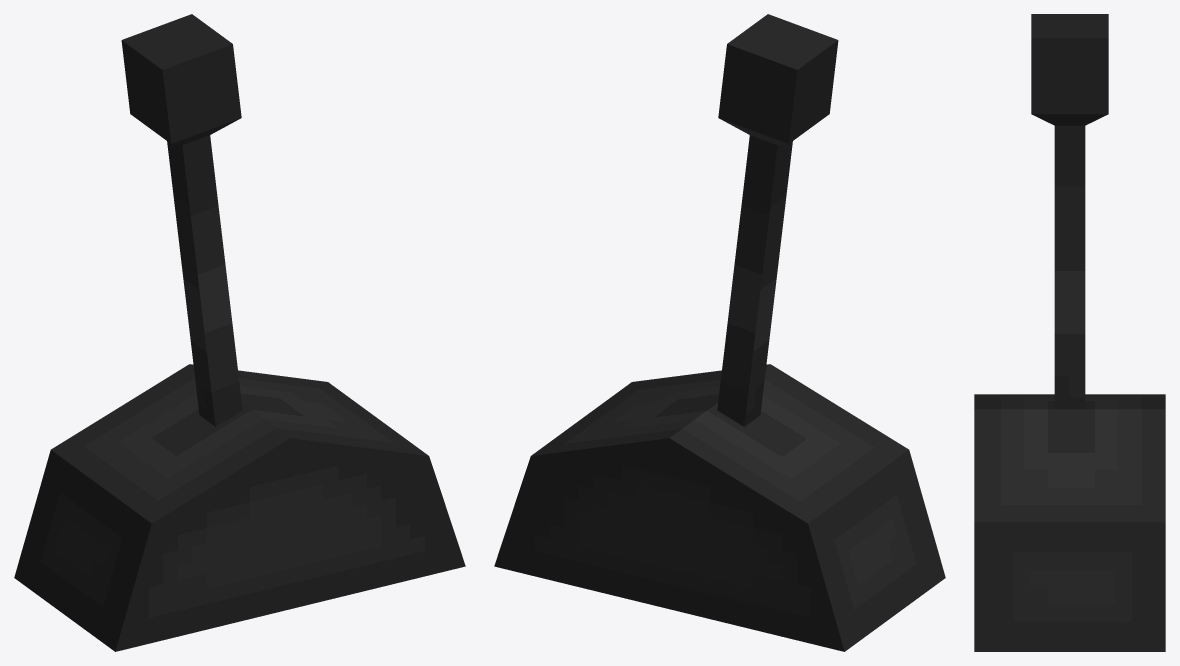
Rendered from lever0007.obj.
The picture shows the model from 3 angles, left to right: view 1: azimuth 30°, elevation 25°; view 2: azimuth 150°, elevation 25°; view 3: azimuth 270°, elevation 25°; orthographic projection. The views are drawn at different scales.
Visible parts, largest first — view 1: Cube.018, Cube.019; view 2: Cube.018, Cube.019; view 3: Cube.018, Cube.019.
Part boxes in pixels (x1,y1,x2,y2): Cube.018: (14, 364, 465, 651); Cube.019: (121, 14, 242, 426); Cube.018: (494, 364, 945, 651); Cube.019: (717, 14, 838, 426); Cube.018: (974, 394, 1165, 651); Cube.019: (1031, 14, 1108, 408).
Size of the model in its own units: 32 by 48.52 by 16.
